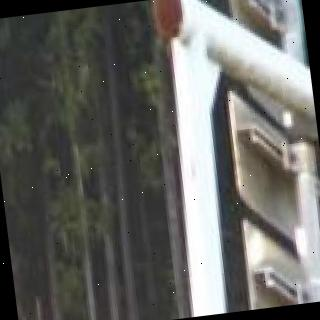fire: (14, 289, 21, 320)
